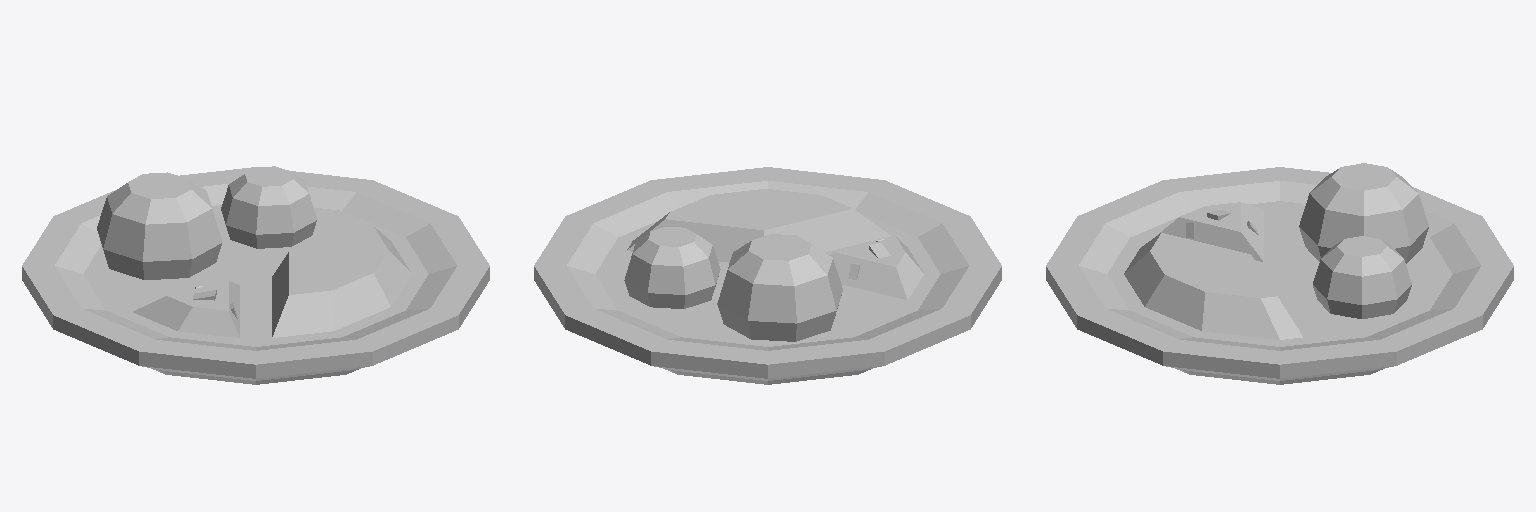
The model's file is plate-dinner.obj.
The picture shows the model from 3 angles: view 1: azimuth 30°, elevation 25°; view 2: azimuth 150°, elevation 25°; view 3: azimuth 270°, elevation 25°; orthographic projection.
Visible parts, largest first — view 1: plate-dinner; view 2: plate-dinner; view 3: plate-dinner.
Part boxes in pixels (bbox=[...]): plate-dinner: bbox=[22, 166, 489, 384]; plate-dinner: bbox=[534, 167, 1001, 384]; plate-dinner: bbox=[1046, 163, 1513, 384].
Size of the model in its own units: 0.8918 by 0.2214 by 0.8918.